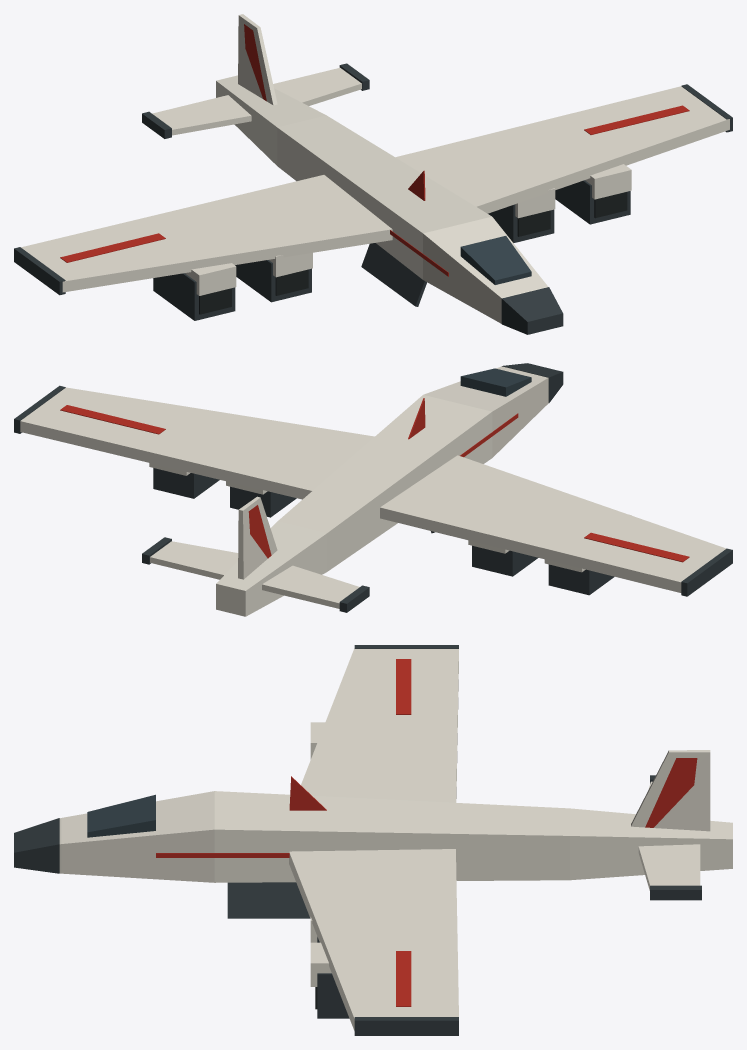
The picture shows the model from 3 angles, top to bottom: view 1: azimuth 30°, elevation 25°; view 2: azimuth 150°, elevation 25°; view 3: azimuth 270°, elevation 25°; orthographic projection. The views are drawn at different scales.
Parts seen in each view (by area): view 1: bomber-fleet-armor, bomber-fleet-machine, bomber-fleet-red, bomber-fleet-rubber, bomber-fleet-glass; view 2: bomber-fleet-armor, bomber-fleet-machine, bomber-fleet-red, bomber-fleet-glass; view 3: bomber-fleet-armor, bomber-fleet-machine, bomber-fleet-red, bomber-fleet-glass.
Part boxes in pixels (x1,y1,x2,y2): bomber-fleet-armor: (21,14,729,323); bomber-fleet-machine: (14,63,732,334); bomber-fleet-red: (60,24,689,276); bomber-fleet-rubber: (199,192,627,314); bomber-fleet-glass: (460,236,531,284); bomber-fleet-armor: (20,366,726,616); bomber-fleet-machine: (14,363,732,612); bomber-fleet-red: (60,398,689,562); bomber-fleet-glass: (460,368,531,396); bomber-fleet-armor: (59,648,732,1030); bomber-fleet-machine: (14,645,701,1035); bomber-fleet-red: (156,659,697,1006); bomber-fleet-glass: (87,794,155,837).
Size of the model in its own units: 156 by 28.75 by 126.
